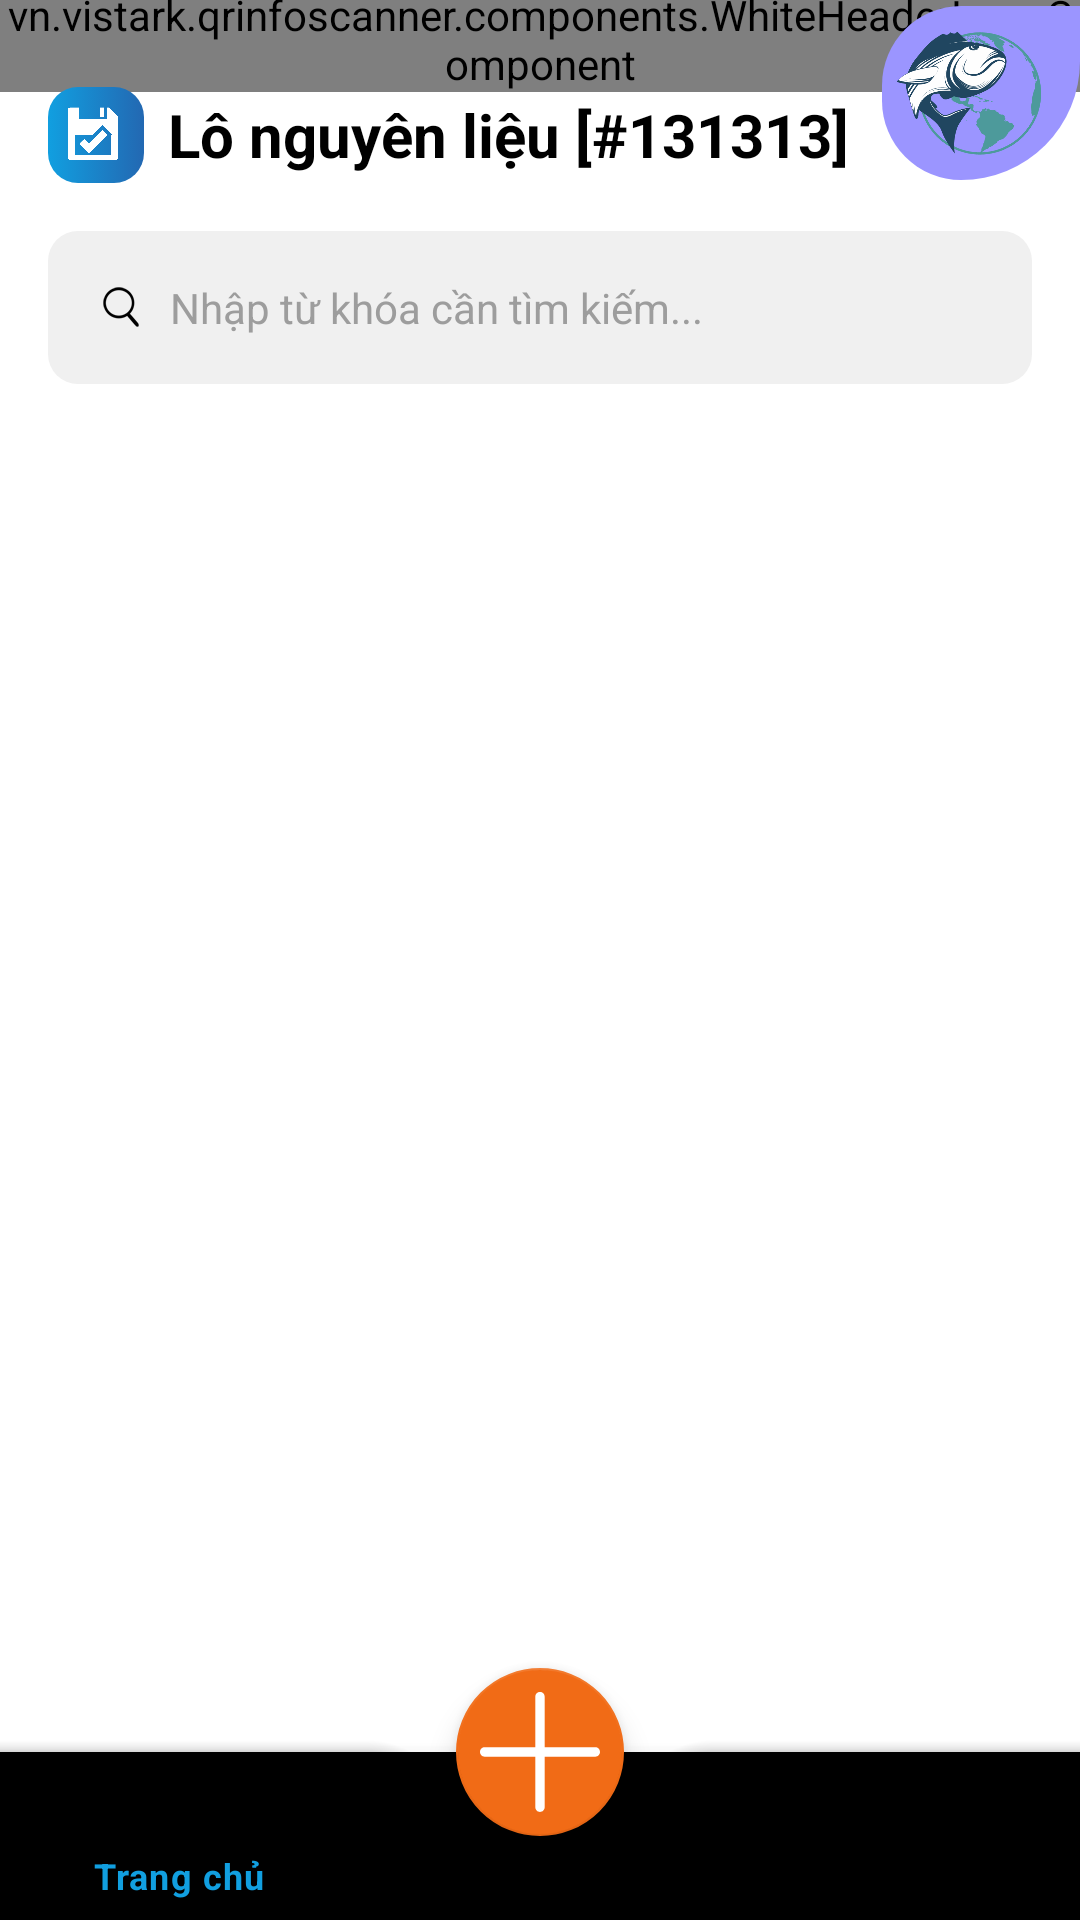

Named icons in this screenshot (1080*1920) and their centers, (x,y):
plus: (540,1752)
save: (96,135)
